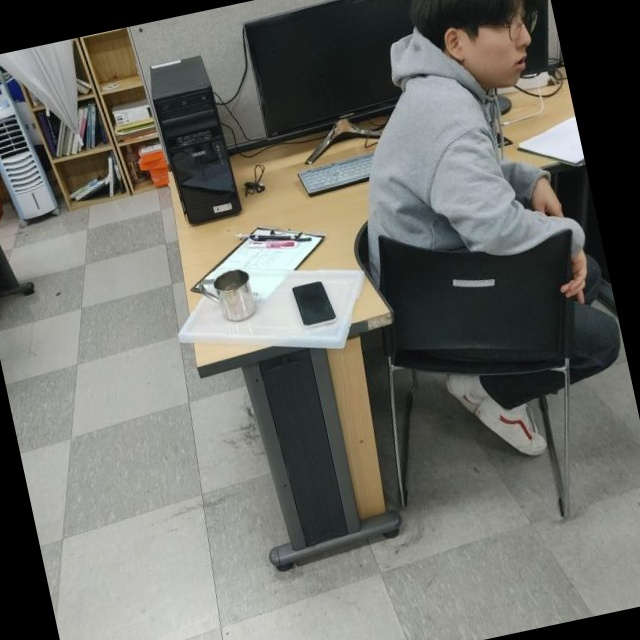cup: (196, 267, 261, 328)
phone: (291, 278, 338, 329)
